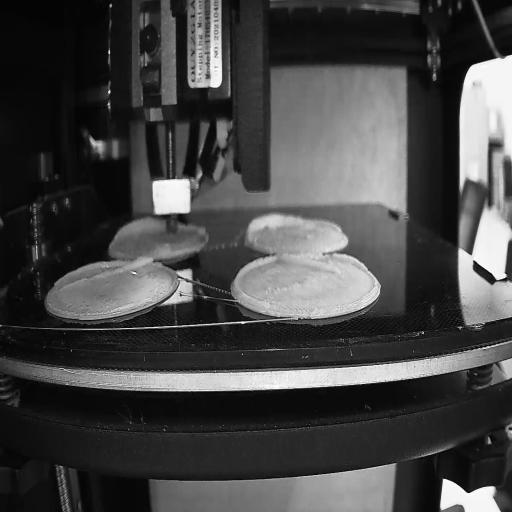over_extrusion: (60, 254, 154, 292), (280, 251, 367, 278), (234, 254, 277, 308), (244, 212, 305, 244), (112, 218, 165, 244), (178, 222, 207, 235), (318, 217, 341, 231)
